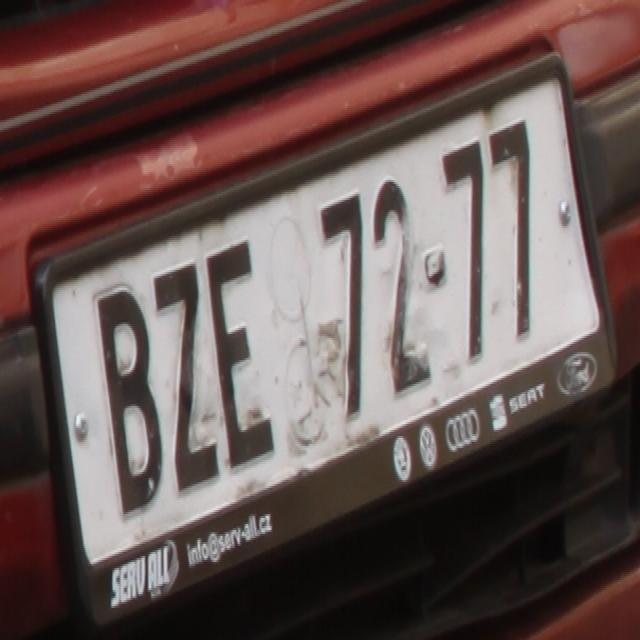2: (369, 176, 434, 404)
7: (318, 184, 365, 416), (491, 120, 542, 330), (442, 142, 486, 362)
B: (95, 288, 162, 516)
E: (203, 240, 272, 472)
Z: (149, 264, 217, 496)
